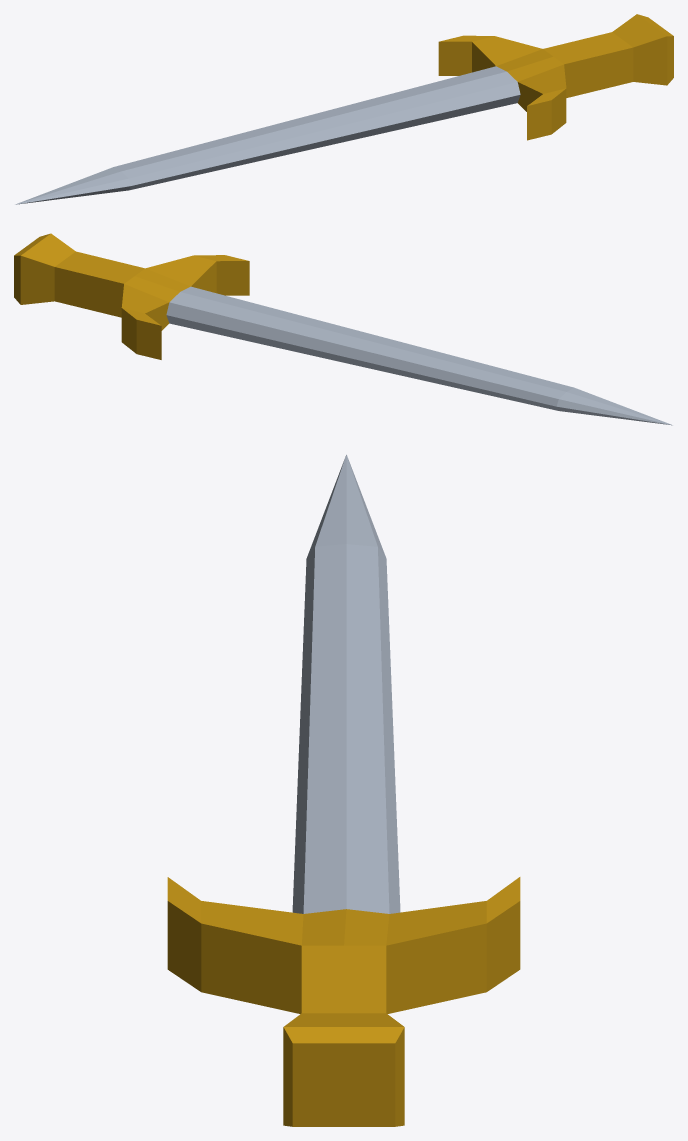
File: SteelSword.glb
The picture shows the model from 3 angles, top to bottom: view 1: azimuth 30°, elevation 25°; view 2: azimuth 150°, elevation 25°; view 3: azimuth 270°, elevation 25°; orthographic projection. The views are drawn at different scales.
Parts seen in each view (by area): view 1: Sword; view 2: Sword; view 3: Sword.
Boxes of the visible parts, box(x1,y1,x2,y2) form: Sword: box(15, 14, 673, 204); Sword: box(14, 233, 672, 425); Sword: box(167, 454, 520, 1126).
Bounding box in the file's own units: 0.7969 × 0.0581 × 0.1882.
